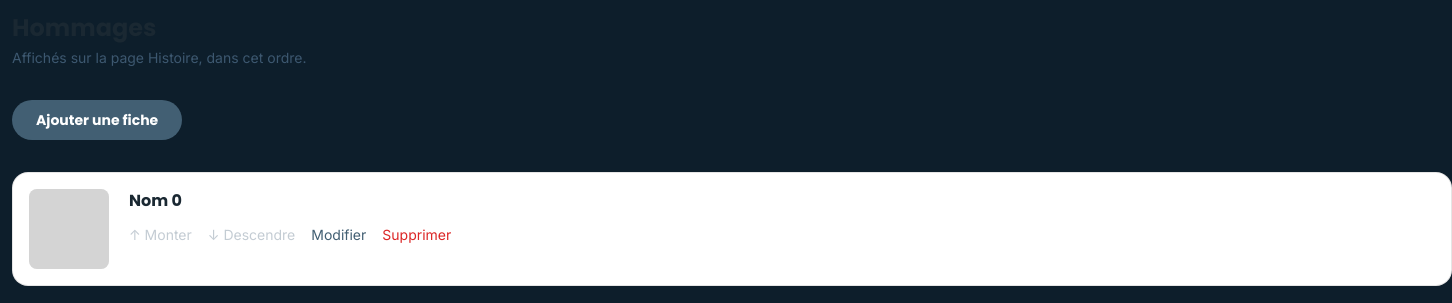
supprime une fiche après confirmation, avec ses images du bucket
The width and height of the screenshot is (1452, 303).
Click the button "Supprimer": click(417, 235) x1=382 y1=225 x2=451 y2=245
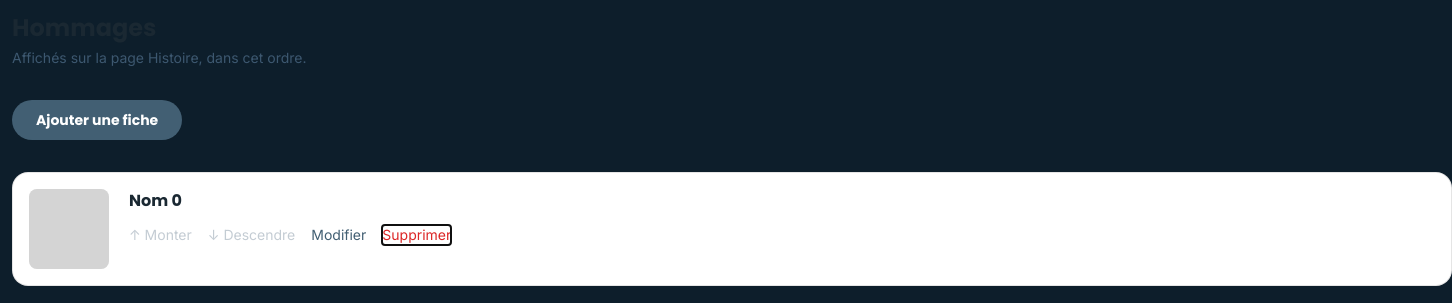
Click the button "Supprimer": click(417, 235) x1=382 y1=225 x2=451 y2=245
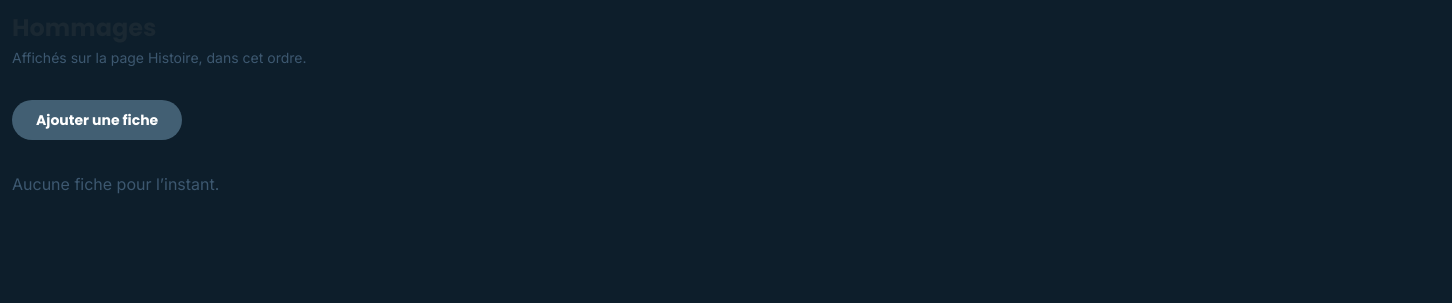
Expected: no list items are shown
